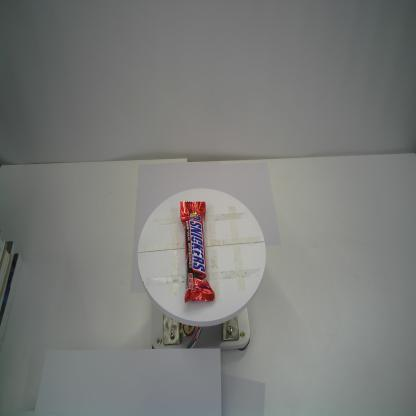Chocolate: (179, 200, 215, 303)
